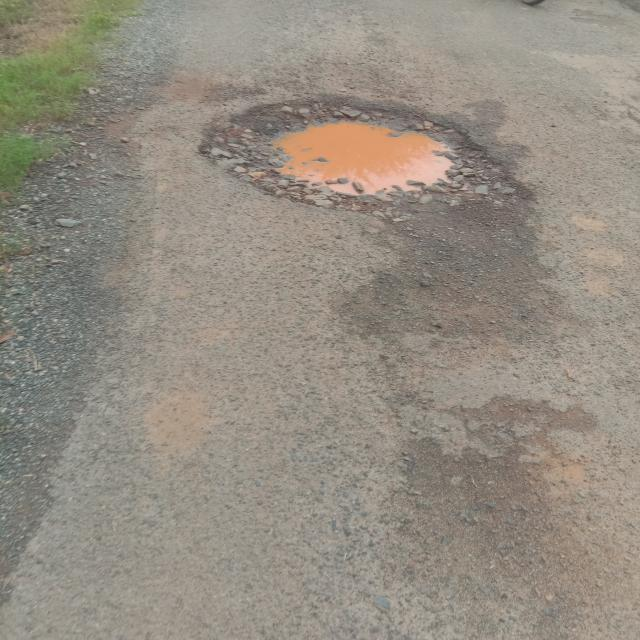potholes: (196, 96, 526, 208)
